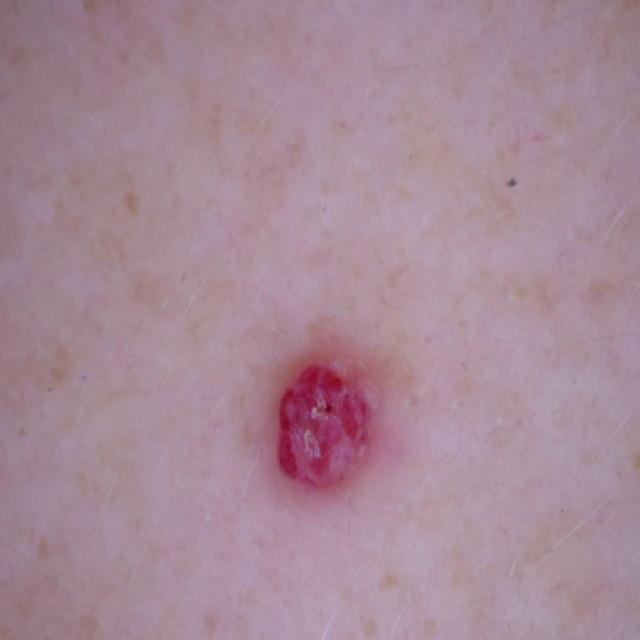Vascular Lesions: (252, 321, 434, 575)
